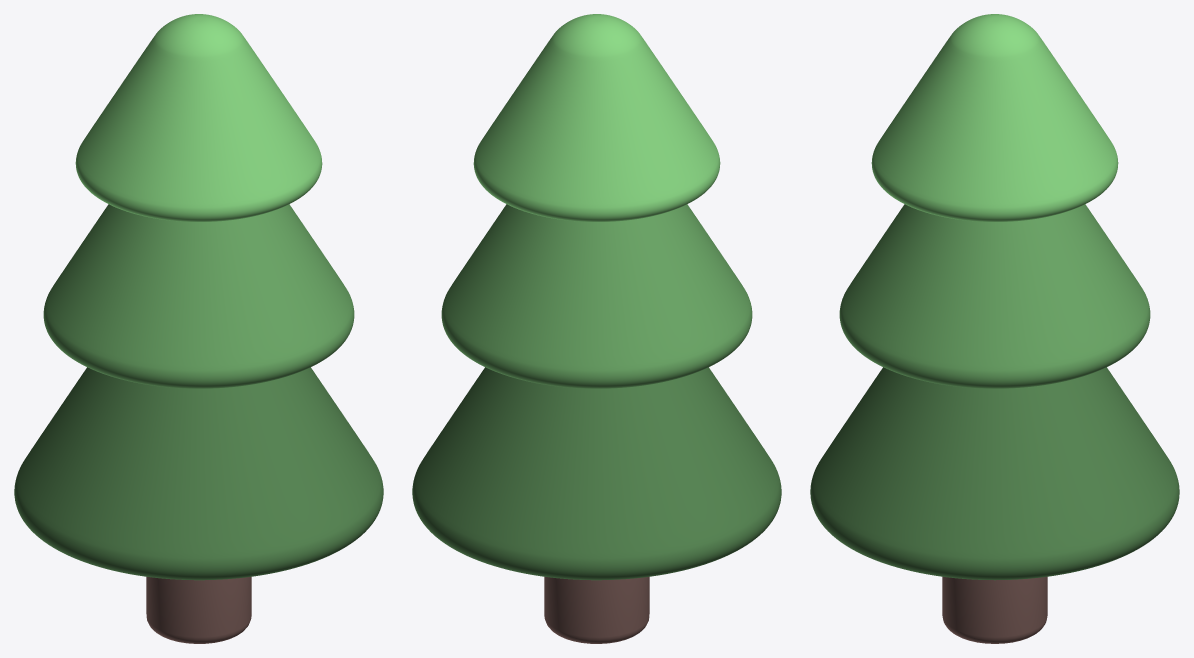
File: layerTree.glb
3 renders of one model, left to right at view 1: azimuth 30°, elevation 25°; view 2: azimuth 150°, elevation 25°; view 3: azimuth 270°, elevation 25°, orthographic.
Parts seen in each view (by area): view 1: leavesLayer1, leavesLayer2, leavesLayer3, pole; view 2: leavesLayer1, leavesLayer2, leavesLayer3, pole; view 3: leavesLayer1, leavesLayer2, leavesLayer3, pole.
Part boxes in pixels (left/top/right/bottom): leavesLayer1: left=14, top=367, right=383, bottom=580; leavesLayer2: left=43, top=204, right=354, bottom=388; leavesLayer3: left=75, top=14, right=322, bottom=221; pole: left=146, top=576, right=251, bottom=643; leavesLayer1: left=412, top=367, right=781, bottom=580; leavesLayer2: left=441, top=204, right=752, bottom=388; leavesLayer3: left=473, top=14, right=720, bottom=221; pole: left=544, top=576, right=649, bottom=643; leavesLayer1: left=810, top=367, right=1179, bottom=580; leavesLayer2: left=839, top=204, right=1150, bottom=388; leavesLayer3: left=871, top=14, right=1118, bottom=221; pole: left=942, top=576, right=1047, bottom=643.
Size of the model in its own units: 2.63 by 4.77 by 2.63.
